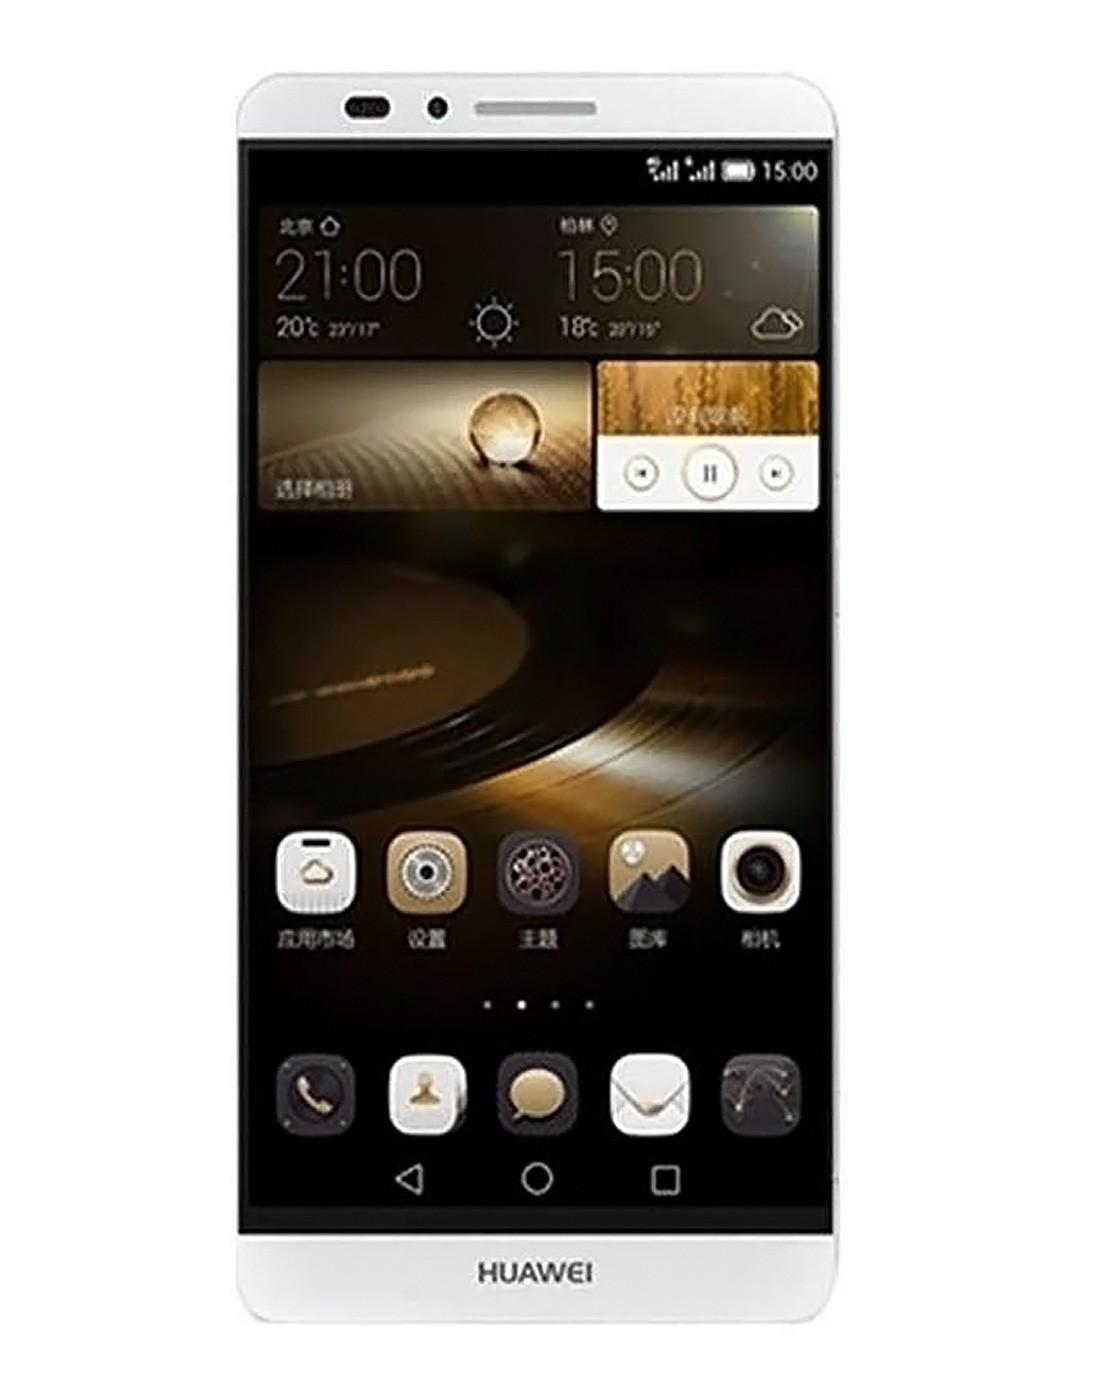phone: (234, 62, 856, 1322)
